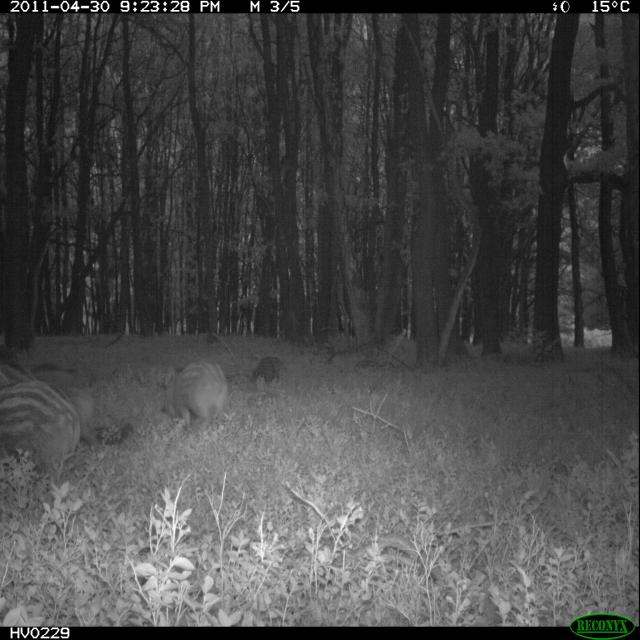boar: (0, 348, 93, 504), (136, 339, 250, 448)
